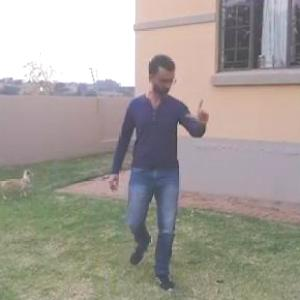land_hand: (181, 91, 216, 133)
